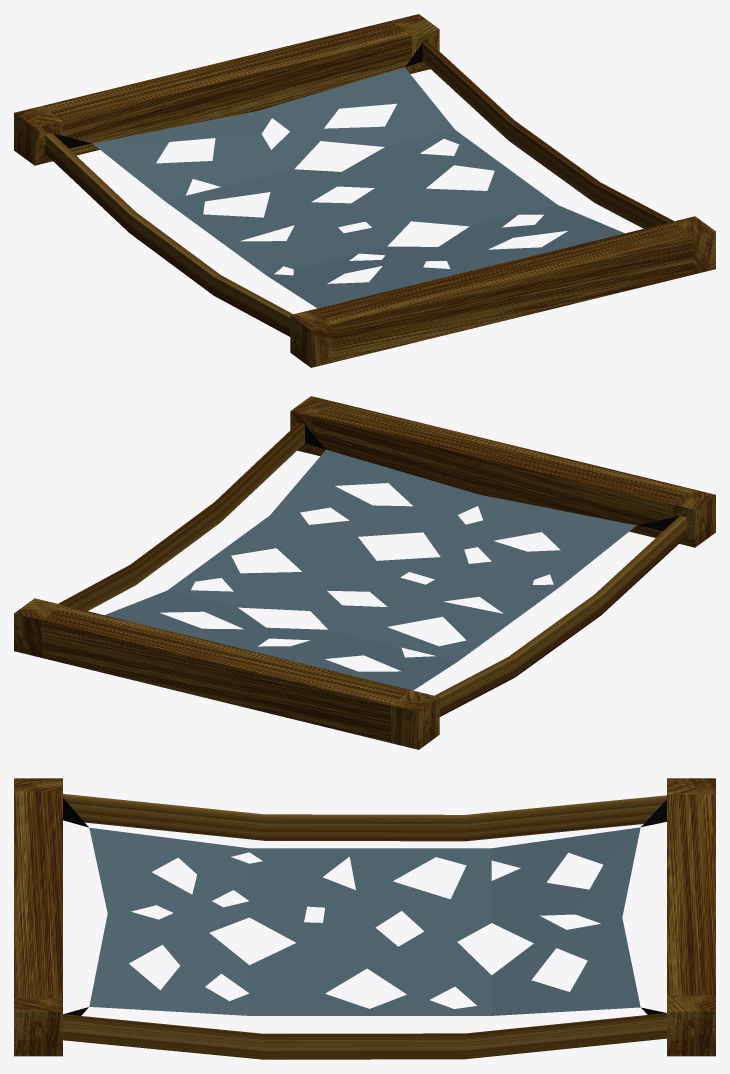
File: FishingNet.glb
The picture shows the model from 3 angles, top to bottom: view 1: azimuth 30°, elevation 25°; view 2: azimuth 150°, elevation 25°; view 3: azimuth 270°, elevation 25°; orthographic projection. The views are drawn at different scales.
Parts seen in each view (by area): view 1: Cube; view 2: Cube; view 3: Cube.
Part boxes in pixels (x1=…): Cube: x1=14, y1=14, x2=715, y2=367; Cube: x1=14, y1=396, x2=715, y2=749; Cube: x1=14, y1=778, x2=715, y2=1059.
Size of the model in its own units: 0.3965 by 0.0424 by 0.5039.
3 materials, 1 textured.
